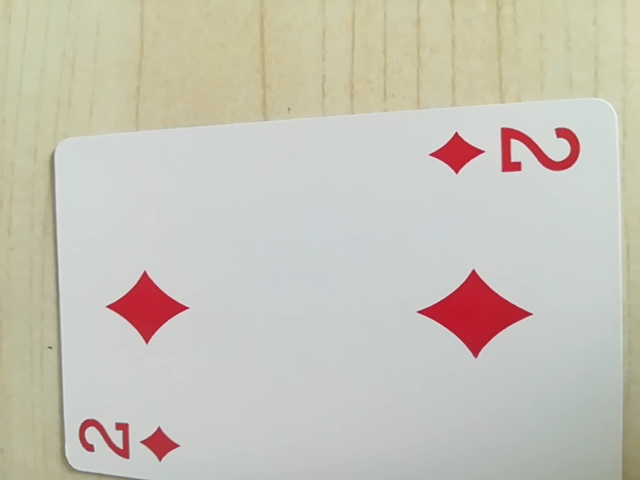fk 2: (432, 120, 585, 182), (69, 405, 192, 474)
